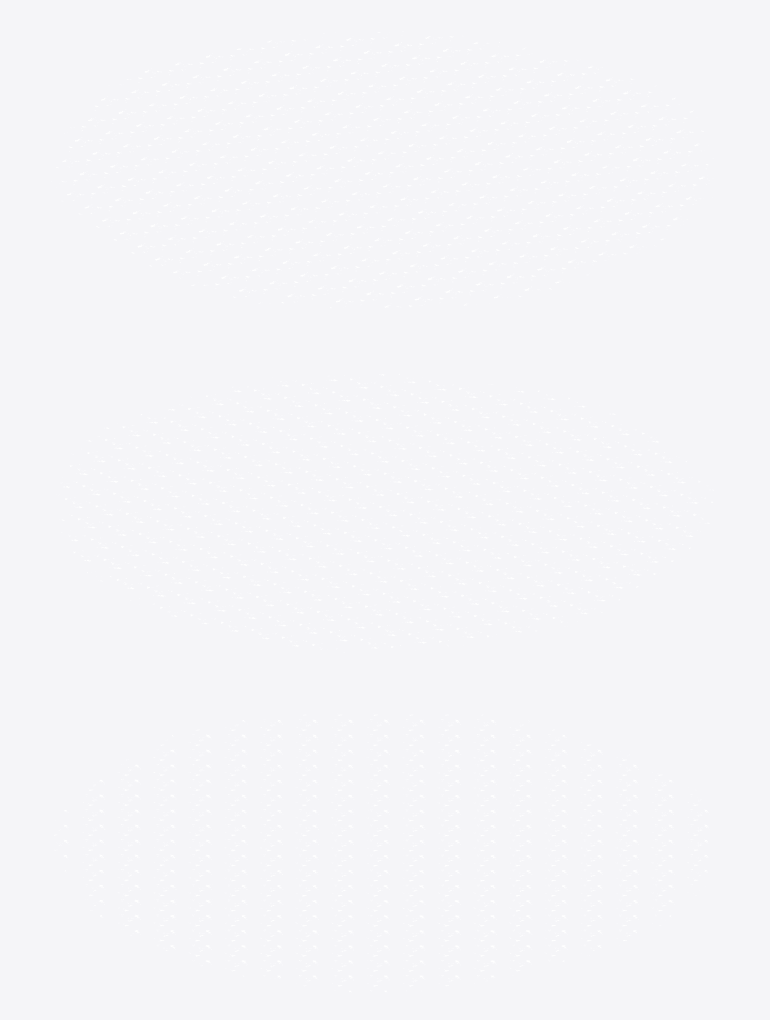
The model's file is snow_dust1.glb.
The picture shows the model from 3 angles, top to bottom: view 1: azimuth 30°, elevation 25°; view 2: azimuth 150°, elevation 25°; view 3: azimuth 270°, elevation 25°; orthographic projection.
Size of the model in its own units: 143 by 0.1066 by 146.
1 material, 1 textured.
